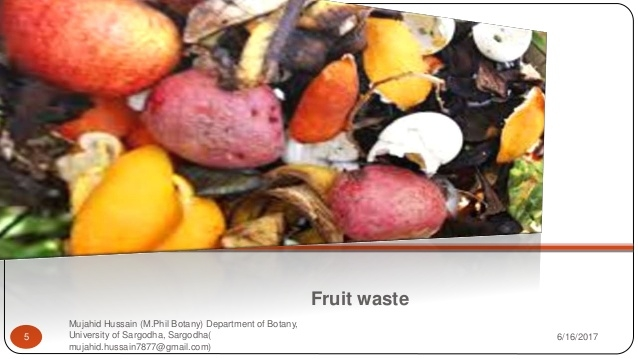kitchen_waste: (1, 1, 182, 101), (60, 147, 229, 254), (147, 66, 290, 169), (326, 155, 453, 245), (220, 159, 342, 245), (365, 104, 465, 180), (359, 16, 438, 110), (290, 47, 363, 146), (489, 79, 545, 167), (470, 21, 536, 64)
